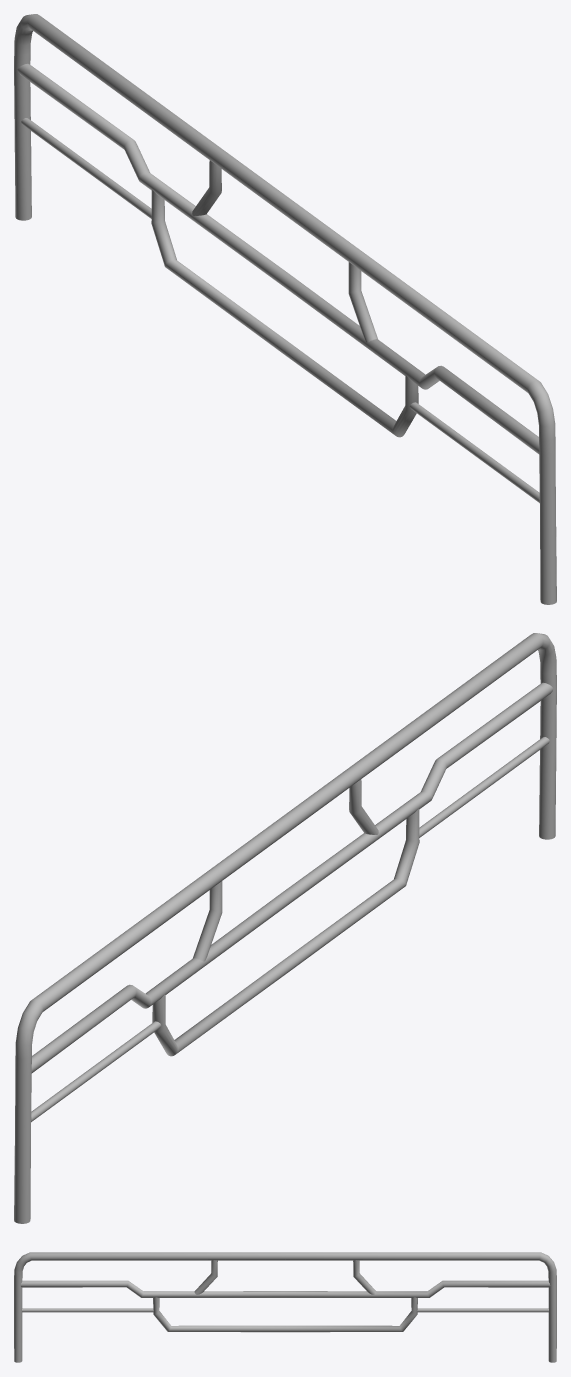
The model's file is town-rail-CBmv6EH4.glb.
3 views of the same model, one above another, from view 1: azimuth 30°, elevation 25°; view 2: azimuth 150°, elevation 25°; view 3: azimuth 270°, elevation 25° (orthographic). The views are drawn at different scales.
Visible parts, largest first — view 1: Prop_Rail_4; view 2: Prop_Rail_4; view 3: Prop_Rail_4.
Boxes of the visible parts, x1,y1,x2,y2 form: Prop_Rail_4: (14, 14, 556, 604); Prop_Rail_4: (14, 633, 556, 1223); Prop_Rail_4: (14, 1252, 556, 1362).
Bounding box in the file's own units: 0.0666 × 0.8621 × 3.93.
1 material, 1 textured.
